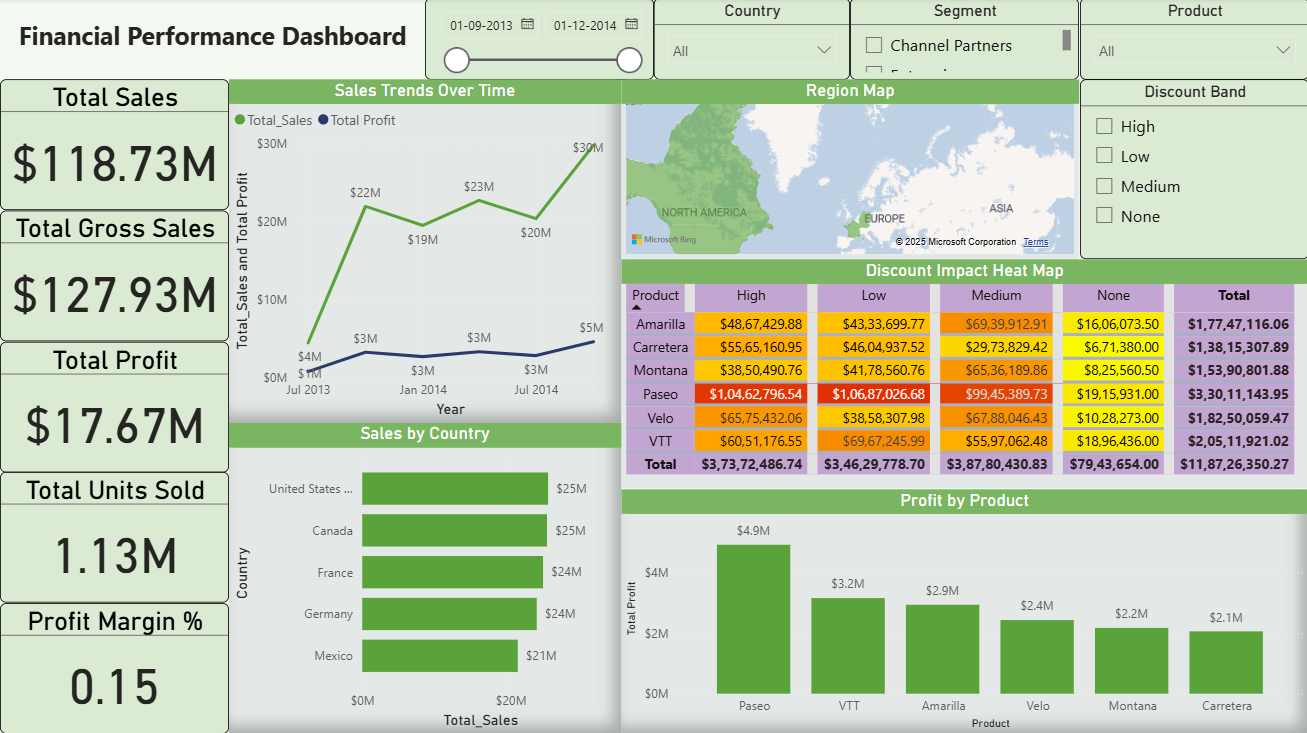

The page's visual inventory and layout, read from the dashboard file:
{"tool":"powerbi","page":{"name":"Page 1","canvas":[1280,720],"ordinal":0},"visuals":[{"type":"card","title":"Total Sales","fields":{"Values":["financial_data_cleaned.Total_Sales"]},"box":[0,80,224,128],"z":0},{"type":"card","title":"Total Gross Sales","fields":{"Values":["financial_data_cleaned.Total Gross Sales"]},"box":[0,208,224,128],"z":1000},{"type":"card","title":"Total Profit","fields":{"Values":["financial_data_cleaned.Total Profit"]},"box":[0,336,224,128],"z":2000},{"type":"card","title":"Total Units Sold","fields":{"Values":["financial_data_cleaned.Total Units Sold"]},"box":[0,464,224,128],"z":3000},{"type":"card","title":"Profit Margin %","fields":{"Values":["financial_data_cleaned.Profit Margin %"]},"box":[0,592,224,128],"z":4000},{"type":"slicer","title":"Date","fields":{"Values":["financial_data_cleaned.Date"]},"box":[416,0,224,80],"z":5000},{"type":"slicer","title":"Country","fields":{"Values":["financial_data_cleaned.Country"]},"box":[640,0,192,80],"z":6000},{"type":"slicer","title":"Segment","fields":{"Values":["financial_data_cleaned.Segment"]},"box":[832,0,224,80],"z":7000},{"type":"slicer","title":"Product","fields":{"Values":["financial_data_cleaned.Product"]},"box":[1056,0,224,80],"z":8000},{"type":"slicer","title":"Discount Band","fields":{"Values":["financial_data_cleaned.Discount Band"]},"box":[1056,80,224,176],"z":9000},{"type":"lineChart","title":"Sales Trends Over Time","fields":{"Y":["financial_data_cleaned.Total_Sales","financial_data_cleaned.Total Profit"],"Category":["financial_data_cleaned.Date.Variation.Date Hierarchy.Year","financial_data_cleaned.Date.Variation.Date Hierarchy.Quarter","financial_data_cleaned.Date.Variation.Date Hierarchy.Month","financial_data_cleaned.Date.Variation.Date Hierarchy.Day"]},"box":[224,80,384,336],"z":10000},{"type":"clusteredBarChart","title":"Sales by Country","fields":{"Category":["financial_data_cleaned.Country"],"Y":["financial_data_cleaned.Total_Sales"]},"box":[224,416,384,304],"z":11000},{"type":"clusteredColumnChart","title":"Profit by Product","fields":{"Category":["financial_data_cleaned.Product"],"Y":["financial_data_cleaned.Total Profit"]},"box":[608,480,672,240],"z":12000},{"type":"pivotTable","title":"Discount Impact Heat Map","fields":{"Rows":["financial_data_cleaned.Product"],"Columns":["financial_data_cleaned.Discount Band"],"Values":["financial_data_cleaned.Total_Sales"]},"box":[608,256,672,224],"z":13000},{"type":"azureMap","title":"Region Map","fields":{"Category":["financial_data_cleaned.Country"]},"box":[608,80,448,176],"z":14000},{"type":"textbox","box":[0,16,416,48],"z":15000}]}

Visuals, with their boxes in screenshot pixels (x1, y1, x2, y2), scaled from the page's 1280x720 canvas onto the 1307x733 screenshot:
"Total Sales" card: bbox=[0, 81, 229, 212]
"Total Gross Sales" card: bbox=[0, 212, 229, 342]
"Total Profit" card: bbox=[0, 342, 229, 472]
"Total Units Sold" card: bbox=[0, 472, 229, 603]
"Profit Margin %" card: bbox=[0, 603, 229, 732]
"Date" slicer: bbox=[425, 0, 654, 81]
"Country" slicer: bbox=[654, 0, 850, 81]
"Segment" slicer: bbox=[850, 0, 1078, 81]
"Product" slicer: bbox=[1078, 0, 1306, 81]
"Discount Band" slicer: bbox=[1078, 81, 1306, 261]
"Sales Trends Over Time" lineChart: bbox=[229, 81, 621, 424]
"Sales by Country" clusteredBarChart: bbox=[229, 424, 621, 732]
"Profit by Product" clusteredColumnChart: bbox=[621, 489, 1306, 732]
"Discount Impact Heat Map" pivotTable: bbox=[621, 261, 1306, 489]
"Region Map" azureMap: bbox=[621, 81, 1078, 261]
textbox: bbox=[0, 16, 425, 65]
